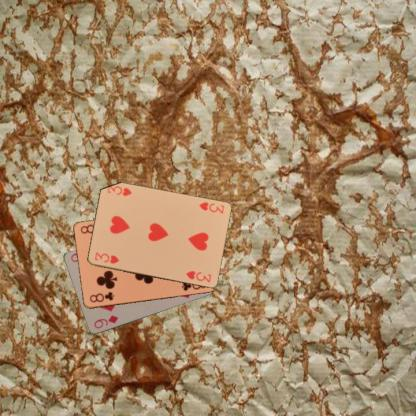3h: (196, 199, 225, 215), (92, 250, 120, 265)
8c: (86, 289, 116, 304)
9d: (91, 312, 120, 330)
